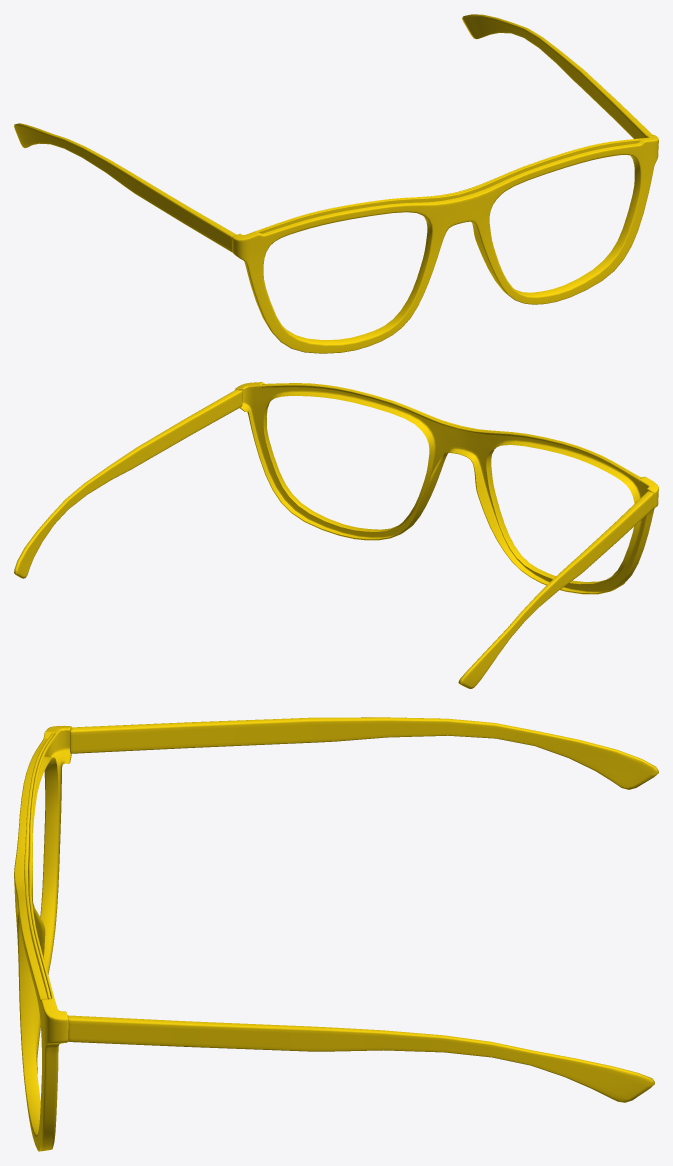
3 renders of one model, top to bottom at view 1: azimuth 30°, elevation 25°; view 2: azimuth 150°, elevation 25°; view 3: azimuth 270°, elevation 25°, orthographic. The views are drawn at different scales.
Parts seen in each view (by area): view 1: am_body; view 2: am_body; view 3: am_body.
Part boxes in pixels (x1=…): am_body: x1=14, y1=14, x2=658, y2=353; am_body: x1=14, y1=382, x2=658, y2=688; am_body: x1=14, y1=717, x2=658, y2=1151.
Size of the model in its own units: 0.1626 by 0.049 by 0.1376.
